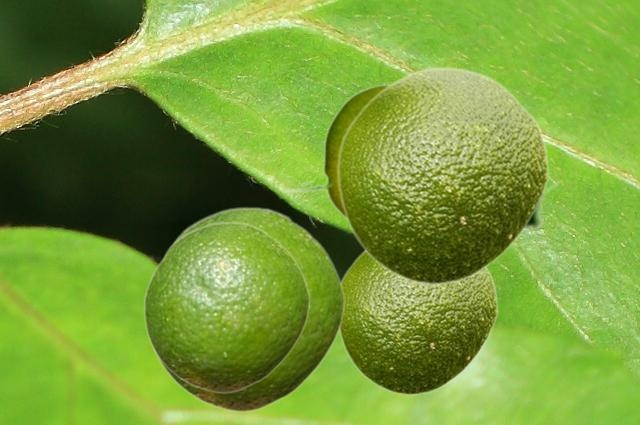calamansi: (336, 66, 548, 285), (150, 206, 344, 412), (143, 221, 309, 393), (339, 251, 497, 395), (281, 83, 388, 218), (518, 174, 564, 240)
